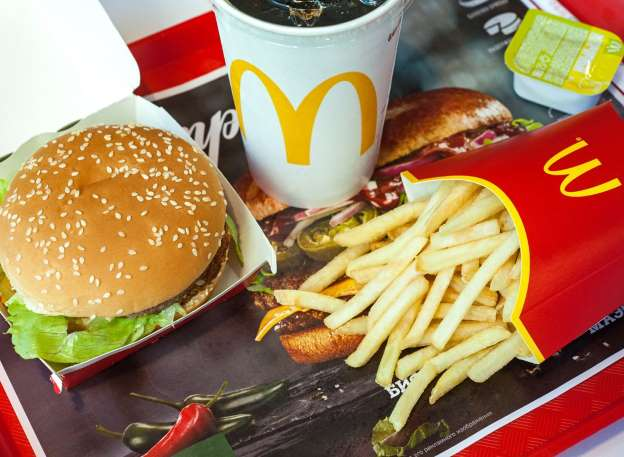mcdonalds: (225, 54, 384, 170), (543, 128, 624, 214)
